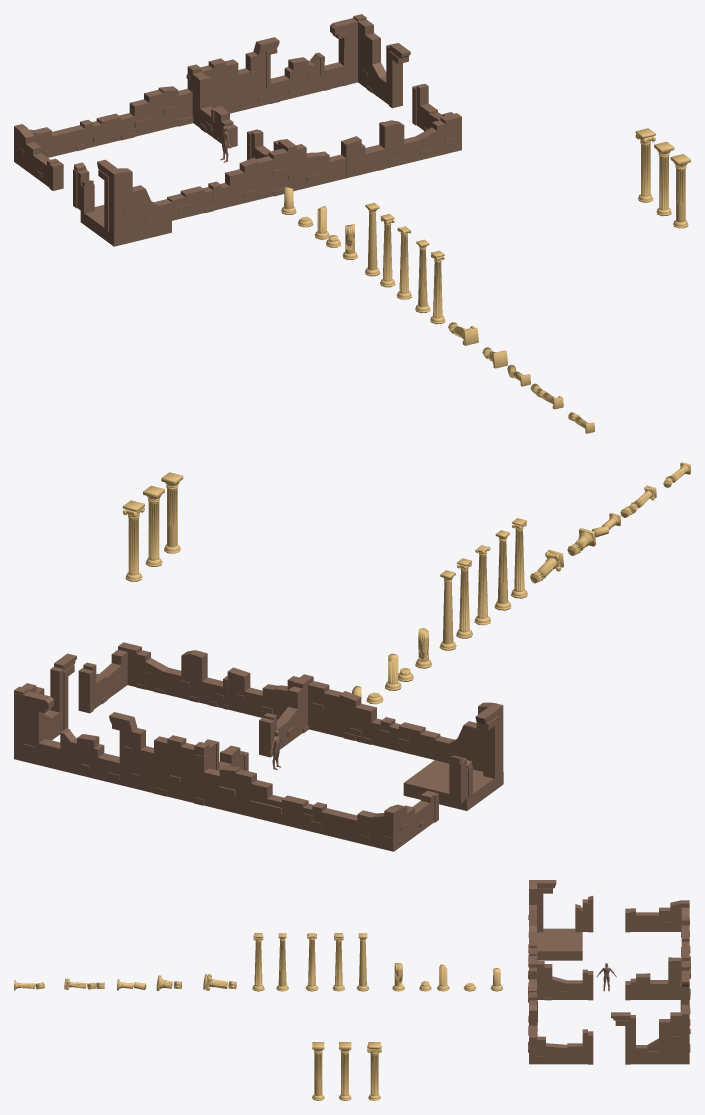
The model's file is casa_romana_arruinada.fbx.
3 views of the same model, one above another, from view 1: azimuth 30°, elevation 25°; view 2: azimuth 150°, elevation 25°; view 3: azimuth 270°, elevation 25° (orthographic). The views are drawn at different scales.
Parts seen in each view (by area): view 1: casa quina janela.001, parede quina porta, casa quina janela, casa parede janela, Parede meio.002, Parede meio.001, casa quina, casa parede janela.001, parede quina, parede quina.001, porta meio.002, Parede meio (+12 smaller); view 2: casa quina janela, casa quina janela.001, parede quina porta, parede quina, casa parede janela, parede quina.001, Parede meio.002, casa quina, Parede meio.001, casa parede janela.001, tanhamnho de 1 tile exemplo, porta meio.002 (+12 smaller); view 3: casa quina janela.001, casa quina janela, casa quina, tanhamnho de 1 tile exemplo, parede quina, parede quina.001, parede quina porta, porta meio.002, porta meio, Coluna .002, porta meio.001, Coluna .005 (+7 smaller).
Boxes of the visible parts, x1,y1,x2,y2 form: casa quina janela.001: (308, 14, 386, 102); parede quina porta: (80, 159, 171, 234); casa quina janela: (186, 58, 250, 142); casa parede janela: (245, 37, 308, 108); Parede meio.002: (225, 148, 287, 206); Parede meio.001: (129, 86, 193, 136); casa quina: (254, 139, 345, 191); casa parede janela.001: (341, 120, 404, 178); parede quina: (14, 124, 76, 185); parede quina.001: (404, 103, 461, 164); porta meio.002: (386, 43, 428, 127); Parede meio: (72, 113, 134, 151); casa quina janela: (140, 735, 240, 805); casa quina janela.001: (14, 683, 76, 774); parede quina porta: (434, 702, 503, 797); parede quina: (330, 800, 430, 851); casa parede janela: (77, 712, 145, 789); parede quina.001: (96, 642, 181, 707); Parede meio.002: (308, 681, 376, 744); casa quina: (244, 674, 313, 749); Parede meio.001: (203, 765, 272, 820); casa parede janela.001: (180, 650, 250, 713); tanhamnho de 1 tile exemplo: (403, 760, 503, 810); porta meio.002: (50, 653, 96, 734); casa quina janela.001: (636, 1004, 690, 1064); casa quina janela: (636, 954, 690, 1007); casa quina: (528, 961, 582, 1002); tanhamnho de 1 tile exemplo: (537, 928, 582, 960); parede quina: (636, 900, 689, 937); parede quina.001: (528, 1025, 582, 1064); parede quina porta: (528, 880, 582, 939); porta meio.002: (582, 1012, 635, 1064); porta meio: (582, 896, 635, 932); Coluna .002: (367, 1042, 381, 1100); porta meio.001: (582, 969, 635, 1000); Coluna .005: (312, 1042, 324, 1100).
Size of the model in its own units: 4580 by 786 by 7583.
